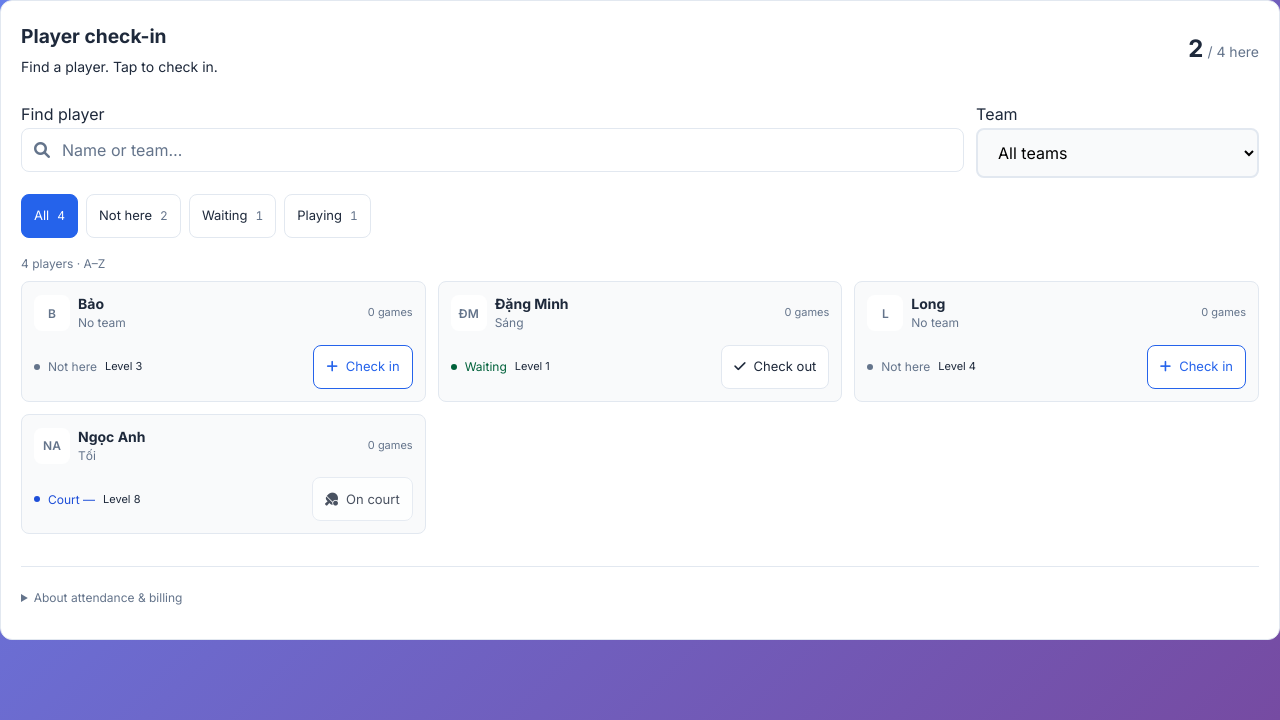
Test: player check-in › sends the attendance action, shows errors, and blocks changes for playing or locked players
Expected: the button with aria-label "Playing Ngọc Anh" is disabled, [312,478,413,522]
Click the button with aria-label "Check in Bảo". click: (363, 367)
box: [314,345,413,389]
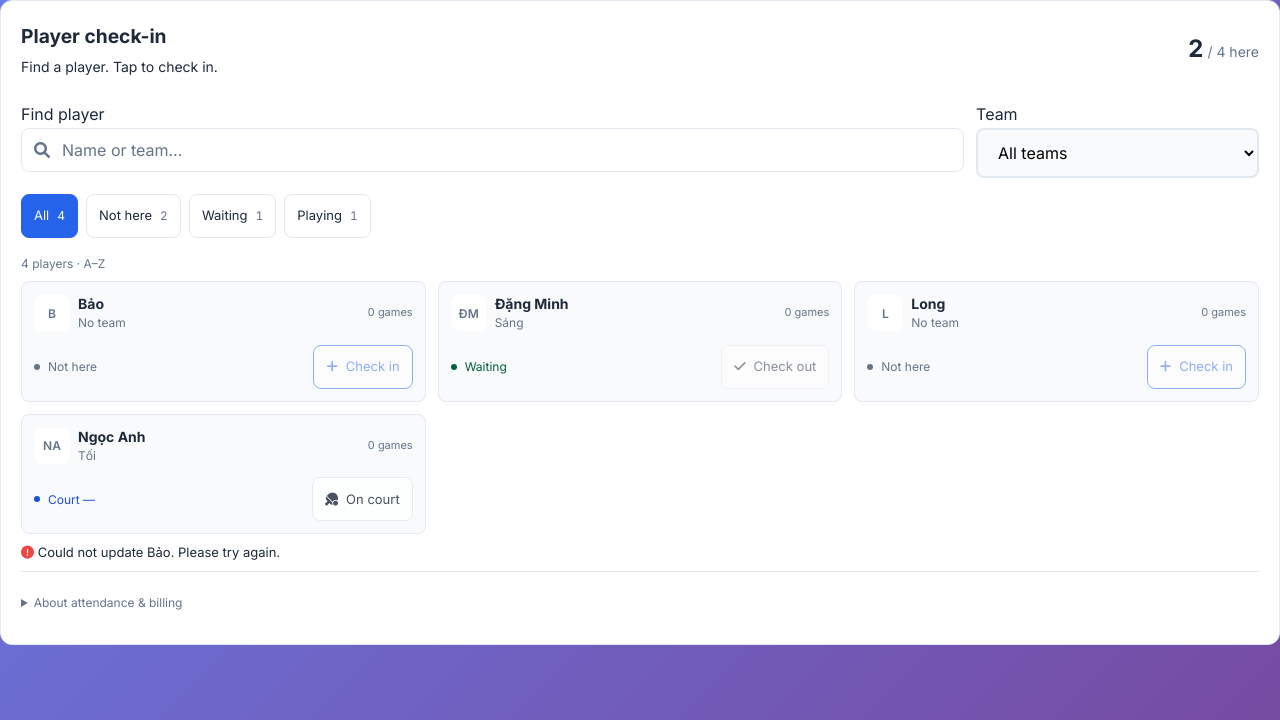
Expected: the message "Could not update Bảo. Please try again." is shown, [21,544,280,560]
Expected: the text "Level" is gone
